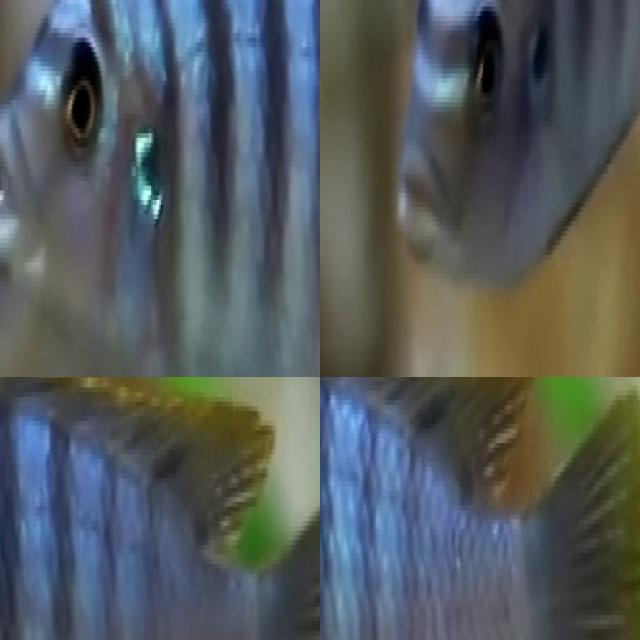fish: (0, 0, 320, 377), (0, 377, 320, 640)
